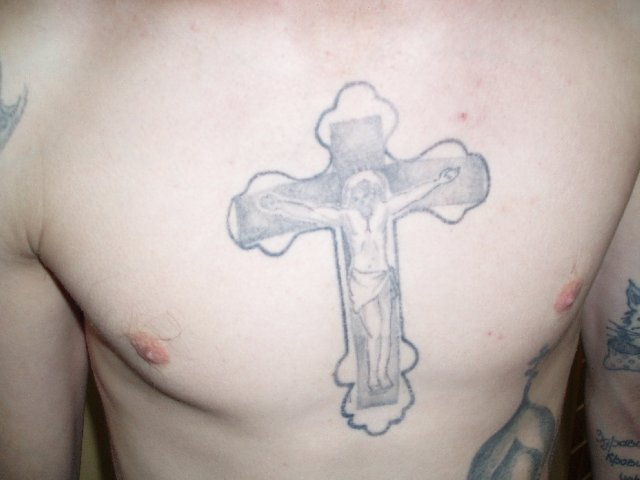tatu9_krest: (199, 72, 514, 440)
